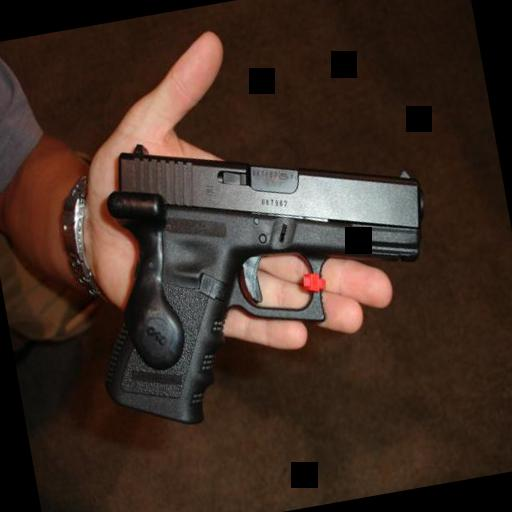Handgun: (64, 88, 460, 449)
